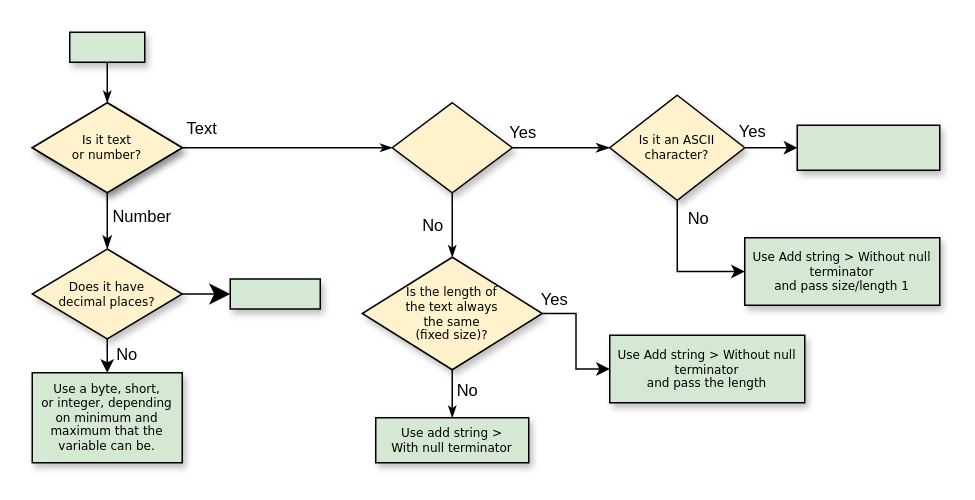
Image size: 975x500. Some labels were removed from this diagram. The shapes that lost their labels are listed below. From the top down, each one's centre as x and y in pixels, then its label:
At (108,49): "Start".
At (453,149): "Is it a single character?".
At (869,149): "Use Add byte > ASCII character".
At (276,296): "Use float".
